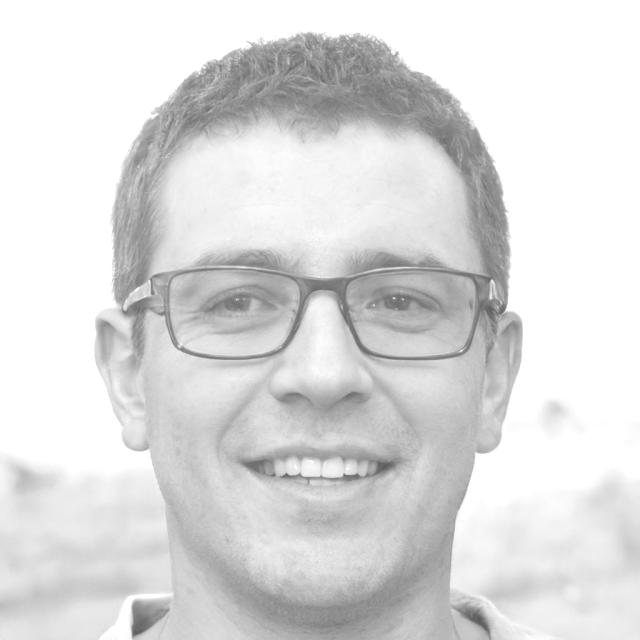lens: (170, 270, 300, 356), (346, 272, 476, 356)
